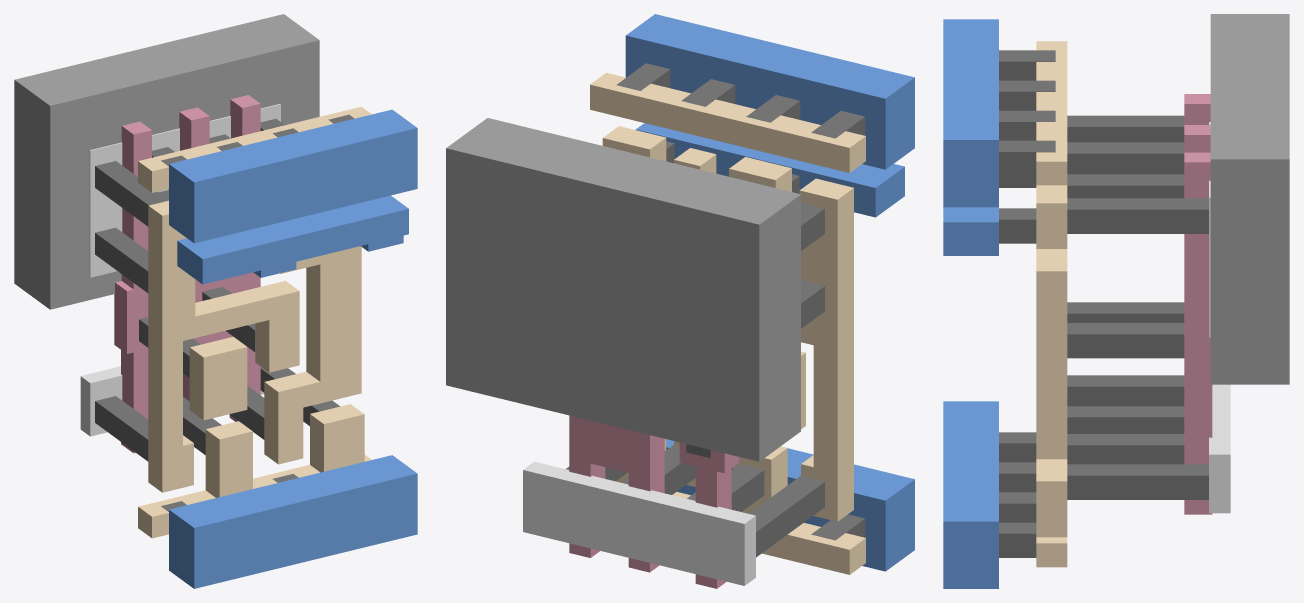
The model's file is sky130_fd_sc_hd__lpflow_clkbufkapwr_2.gds.gltf.
3 views of the same model, side by side, from view 1: azimuth 30°, elevation 25°; view 2: azimuth 150°, elevation 25°; view 3: azimuth 270°, elevation 25° (orthographic). The views are drawn at different scales.
Visible parts, largest first — view 1: sky130_fd_sc_hd__lpflow_clkbufkapwr_2_met1, sky130_fd_sc_hd__lpflow_clkbufkapwr_2_li1, sky130_fd_sc_hd__lpflow_clkbufkapwr_2_nwell, sky130_fd_sc_hd__lpflow_clkbufkapwr_2_licon, sky130_fd_sc_hd__lpflow_clkbufkapwr_2_poly, sky130_fd_sc_hd__lpflow_clkbufkapwr_2_diff, sky130_fd_sc_hd__lpflow_clkbufkapwr_2_mcon; view 2: sky130_fd_sc_hd__lpflow_clkbufkapwr_2_nwell, sky130_fd_sc_hd__lpflow_clkbufkapwr_2_li1, sky130_fd_sc_hd__lpflow_clkbufkapwr_2_met1, sky130_fd_sc_hd__lpflow_clkbufkapwr_2_diff, sky130_fd_sc_hd__lpflow_clkbufkapwr_2_poly, sky130_fd_sc_hd__lpflow_clkbufkapwr_2_licon, sky130_fd_sc_hd__lpflow_clkbufkapwr_2_mcon; view 3: sky130_fd_sc_hd__lpflow_clkbufkapwr_2_licon, sky130_fd_sc_hd__lpflow_clkbufkapwr_2_nwell, sky130_fd_sc_hd__lpflow_clkbufkapwr_2_met1, sky130_fd_sc_hd__lpflow_clkbufkapwr_2_li1, sky130_fd_sc_hd__lpflow_clkbufkapwr_2_mcon, sky130_fd_sc_hd__lpflow_clkbufkapwr_2_poly, sky130_fd_sc_hd__lpflow_clkbufkapwr_2_diff.
Part boxes in pixels (<box>): sky130_fd_sc_hd__lpflow_clkbufkapwr_2_met1: <box>169,109,417,588</box>; sky130_fd_sc_hd__lpflow_clkbufkapwr_2_li1: <box>138,106,371,538</box>; sky130_fd_sc_hd__lpflow_clkbufkapwr_2_nwell: <box>14,14,319,309</box>; sky130_fd_sc_hd__lpflow_clkbufkapwr_2_licon: <box>95,118,339,461</box>; sky130_fd_sc_hd__lpflow_clkbufkapwr_2_poly: <box>114,95,260,453</box>; sky130_fd_sc_hd__lpflow_clkbufkapwr_2_diff: <box>80,104,280,436</box>; sky130_fd_sc_hd__lpflow_clkbufkapwr_2_mcon: <box>161,114,354,511</box>; sky130_fd_sc_hd__lpflow_clkbufkapwr_2_nwell: <box>446,118,800,461</box>; sky130_fd_sc_hd__lpflow_clkbufkapwr_2_li1: <box>590,72,865,574</box>; sky130_fd_sc_hd__lpflow_clkbufkapwr_2_met1: <box>625,14,914,571</box>; sky130_fd_sc_hd__lpflow_clkbufkapwr_2_diff: <box>523,461,755,585</box>; sky130_fd_sc_hd__lpflow_clkbufkapwr_2_poly: <box>569,415,739,588</box>; sky130_fd_sc_hd__lpflow_clkbufkapwr_2_licon: <box>565,202,824,557</box>; sky130_fd_sc_hd__lpflow_clkbufkapwr_2_mcon: <box>617,63,865,540</box>; sky130_fd_sc_hd__lpflow_clkbufkapwr_2_licon: <box>1067,115,1208,499</box>; sky130_fd_sc_hd__lpflow_clkbufkapwr_2_nwell: <box>1210,14,1289,384</box>; sky130_fd_sc_hd__lpflow_clkbufkapwr_2_met1: <box>943,19,998,588</box>; sky130_fd_sc_hd__lpflow_clkbufkapwr_2_li1: <box>1036,41,1067,567</box>; sky130_fd_sc_hd__lpflow_clkbufkapwr_2_mcon: <box>999,50,1055,557</box>; sky130_fd_sc_hd__lpflow_clkbufkapwr_2_poly: <box>1184,94,1212,514</box>; sky130_fd_sc_hd__lpflow_clkbufkapwr_2_diff: <box>1209,122,1230,513</box>.
Bounding box in the file's own units: 2.22 × 3.2 × 2.24.
